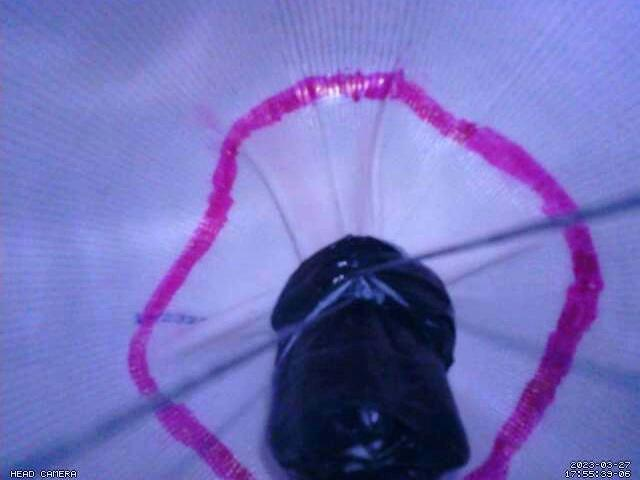red-circle: (128, 69, 606, 480)
